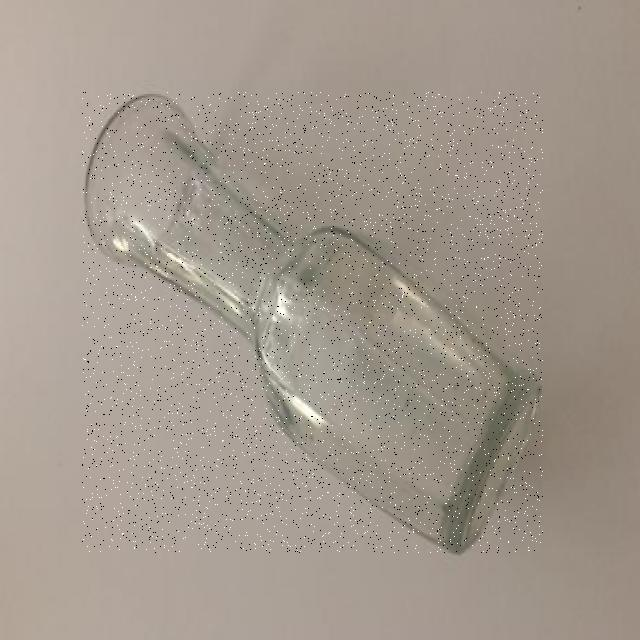glass: (82, 92, 543, 553)
